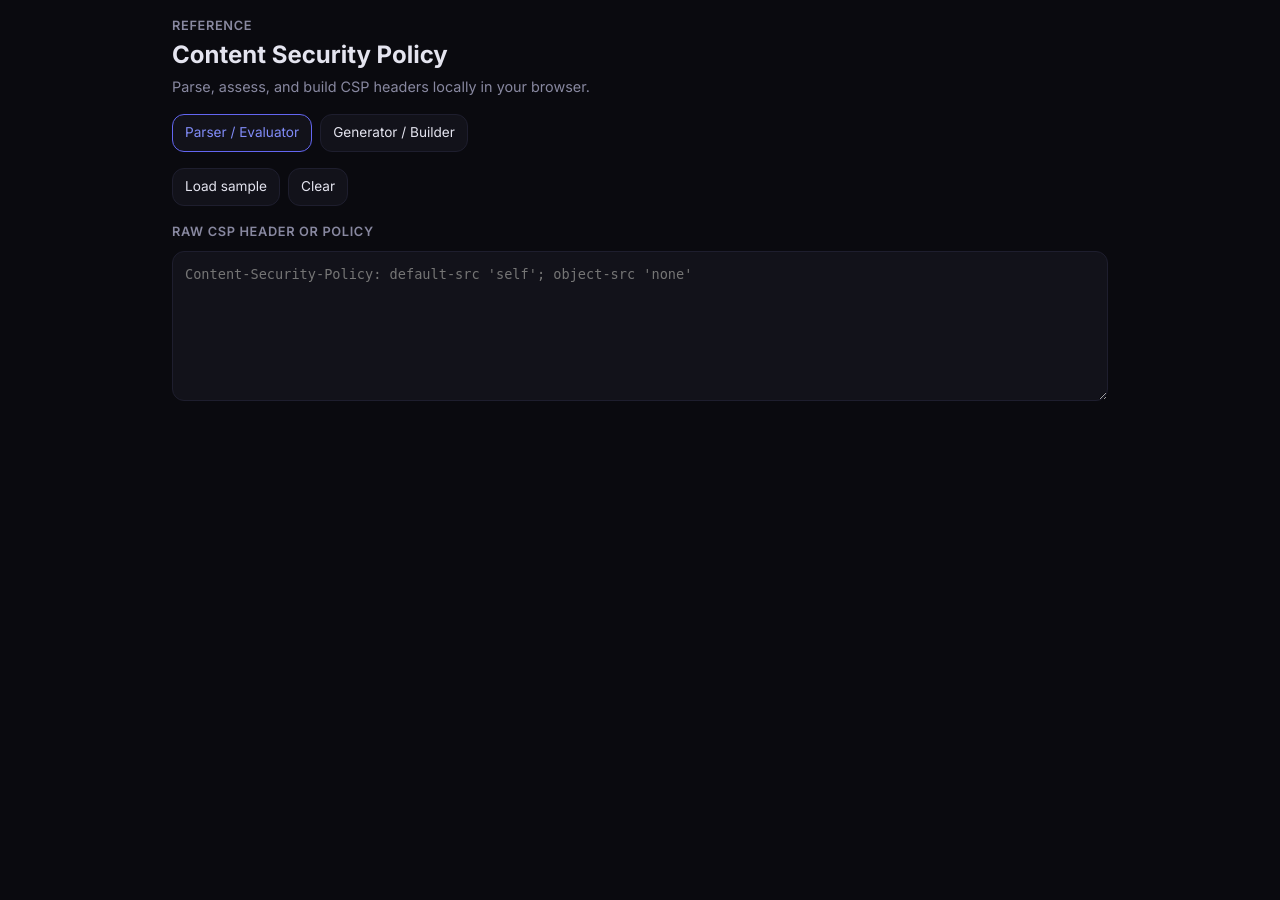
Test: CspTool › loads parser samples and clears parser input
Click the button with aria-label "Load CSP sample policy". click: [226, 187]
box: [172,168,280,206]
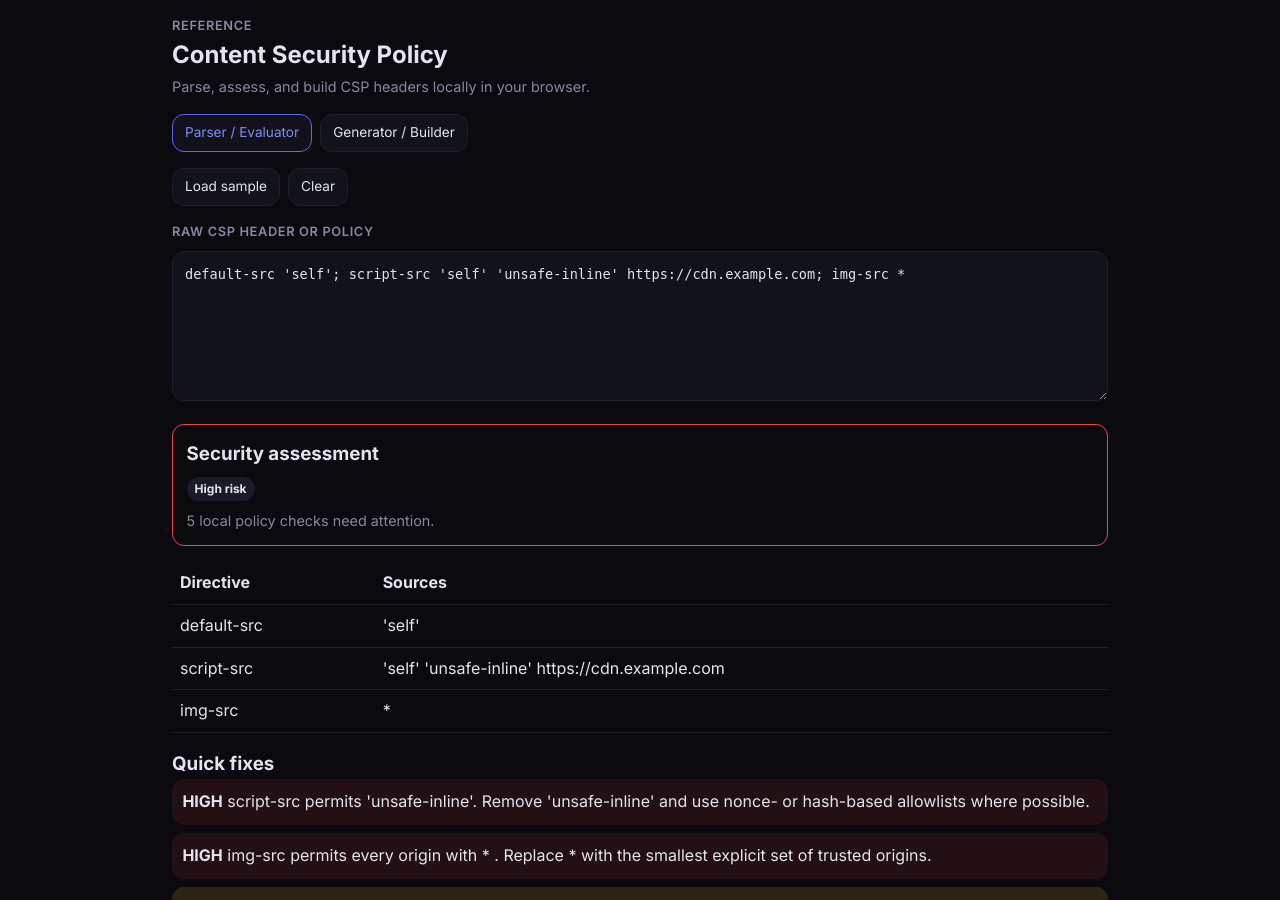
Check: the text box named "Raw CSP header input" is not empty, box [172,251,1108,401]
Click the button with aria-label "Clear CSP parser input". click: [318, 187]
box: [288,168,348,206]
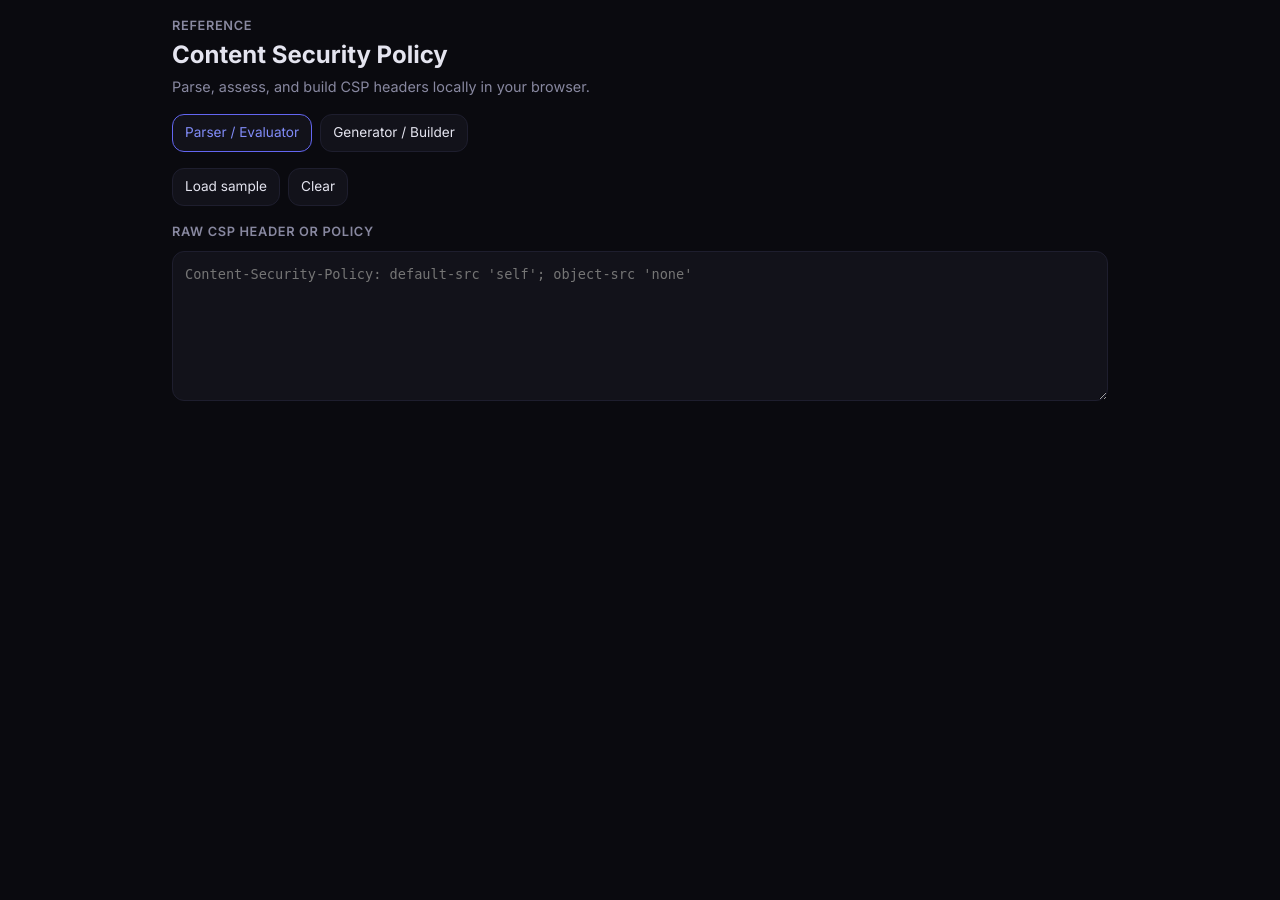
Check: the text box named "Raw CSP header input" is empty, box [172,251,1108,401]
